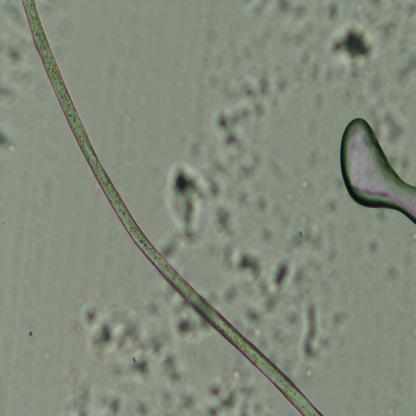Air bubble: (336, 119, 416, 225)
Background material: (77, 304, 196, 416), (210, 59, 284, 184), (60, 364, 150, 416), (242, 248, 297, 322), (166, 160, 209, 246), (206, 381, 278, 416), (277, 0, 314, 60), (300, 302, 327, 373), (238, 183, 287, 222), (216, 245, 246, 304), (165, 299, 202, 345), (288, 212, 326, 254), (328, 30, 374, 64), (374, 91, 402, 144), (210, 189, 235, 240), (324, 301, 345, 350), (2, 52, 28, 89), (301, 267, 322, 302), (376, 17, 401, 45), (392, 57, 416, 83), (0, 82, 17, 108), (362, 234, 378, 259), (306, 61, 321, 87), (382, 264, 397, 288), (0, 132, 15, 156), (65, 319, 83, 336), (383, 403, 402, 416), (326, 5, 340, 22), (42, 346, 53, 364), (24, 327, 35, 341)
Microfibre: (22, 1, 321, 415)
